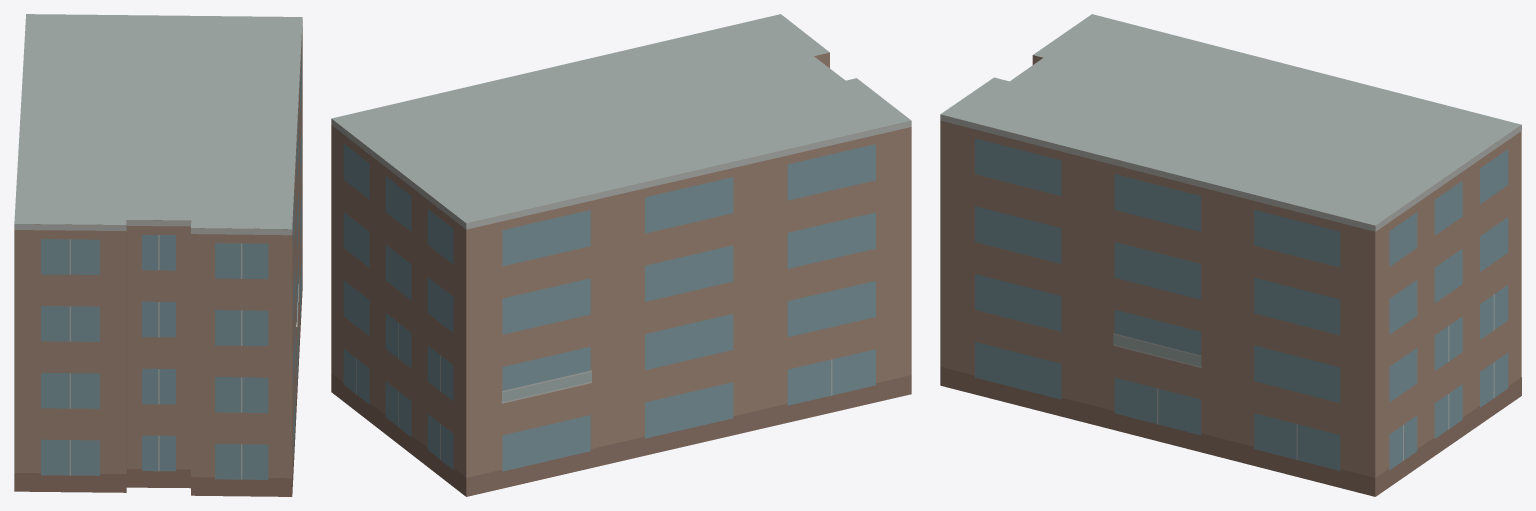
Rendered from survey-upis-32966549.glb.
3 views of the same model, side by side, from view 1: azimuth 30°, elevation 25°; view 2: azimuth 150°, elevation 25°; view 3: azimuth 270°, elevation 25° (orthographic). The views are drawn at different scales.
Visible parts, largest first — view 1: survey-upis-32966549.tmp; view 2: survey-upis-32966549.tmp; view 3: survey-upis-32966549.tmp.
Part boxes in pixels (<box>): survey-upis-32966549.tmp: <box>14,14,302,496</box>; survey-upis-32966549.tmp: <box>331,14,911,496</box>; survey-upis-32966549.tmp: <box>940,14,1521,496</box>.
Bounding box in the file's own units: 17.92 × 10.7 × 20.8.
